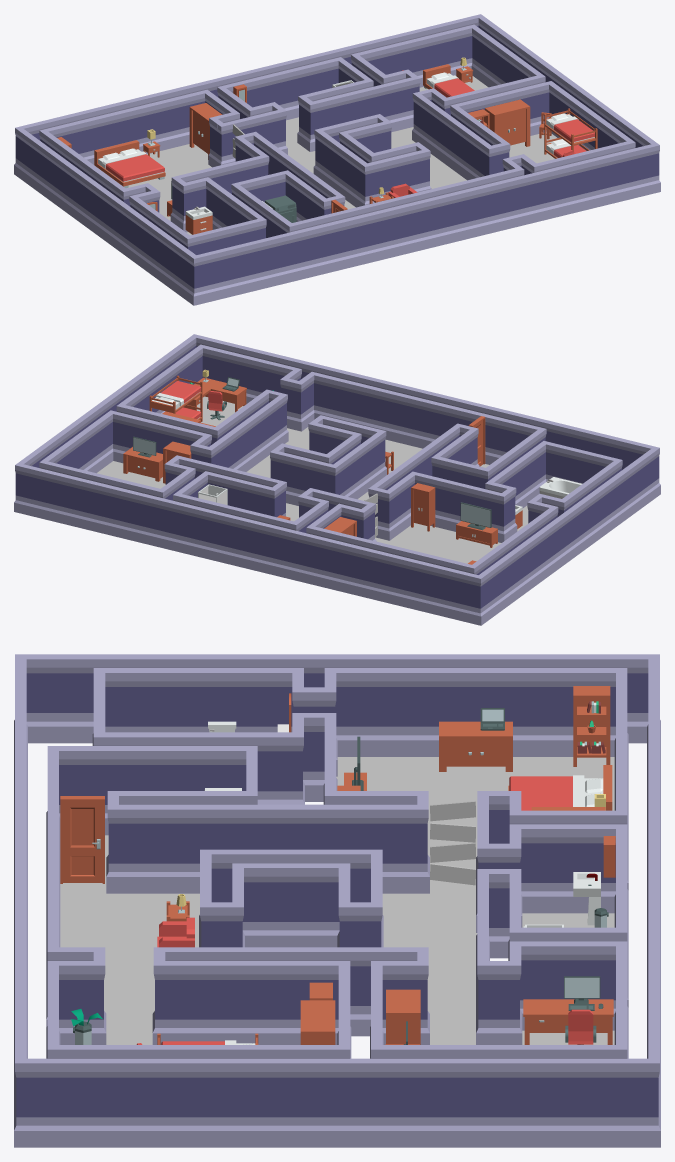
Rendered from House1-06-F2.dae.
3 renders of one model, top to bottom at view 1: azimuth 30°, elevation 25°; view 2: azimuth 150°, elevation 25°; view 3: azimuth 270°, elevation 25°, orthographic. The views are drawn at different scales.
Visible parts, largest first — view 1: wall (×29), wall_corner (×20), porch_floorCenter (×4), bookcaseClosedDoors (×2), bedDouble, bedBunk, bedSingle, bathroomCabinetDrawer, dryer; view 2: wall (×30), wall_corner (×16), porch_floorCenter (×5), bedBunk, bookcaseClosedDoors (×2), TVDrawer2, TVDrawer3, LDesk, bathtub, doorway, shower; view 3: wall (×30), wall_corner (×39), porch_floorCenter (×7), doorway, LaptopDresser1, bookcaseClosedDoors (×2), DesktopDesk, barricade_large, bedDouble, Bookcase2, SinkCabinet, loungeChair (+1 smaller).
Part boxes in pixels (x1,y1,x2,y2): wall (×29): (22, 17, 651, 302); wall_corner (×20): (14, 24, 660, 305); porch_floorCenter (×4): (128, 130, 556, 220); bookcaseClosedDoors (×2): (189, 99, 530, 159); bedDouble: (94, 140, 165, 188); bedBunk: (544, 108, 597, 158); bedSingle: (423, 64, 474, 97); bathroomCabinetDrawer: (185, 206, 212, 234); dryer: (265, 195, 296, 222); wall (×30): (23, 337, 652, 622); wall_corner (×16): (14, 344, 660, 625); porch_floorCenter (×5): (97, 396, 501, 563); bedBunk: (149, 375, 202, 421); bookcaseClosedDoors (×2): (163, 441, 435, 531); TVDrawer2: (456, 502, 497, 547); TVDrawer3: (123, 436, 162, 481); LDesk: (183, 369, 246, 412); bathtub: (539, 477, 581, 498); doorway: (468, 416, 485, 466); shower: (198, 484, 227, 504); wall (×30): (14, 654, 660, 1147); wall_corner (×39): (14, 654, 660, 1147); porch_floorCenter (×7): (60, 757, 614, 1044); doorway: (60, 796, 104, 883); LaptopDresser1: (439, 708, 512, 771); bookcaseClosedDoors (×2): (300, 989, 420, 1044); DesktopDesk: (523, 976, 613, 1044); barricade_large: (430, 800, 475, 885); bedDouble: (508, 765, 612, 810); Bookcase2: (573, 686, 610, 766); SinkCabinet: (573, 836, 615, 925); loungeChair: (157, 917, 194, 947).
Bounding box in the file's own units: 21 × 3.02 × 14.
